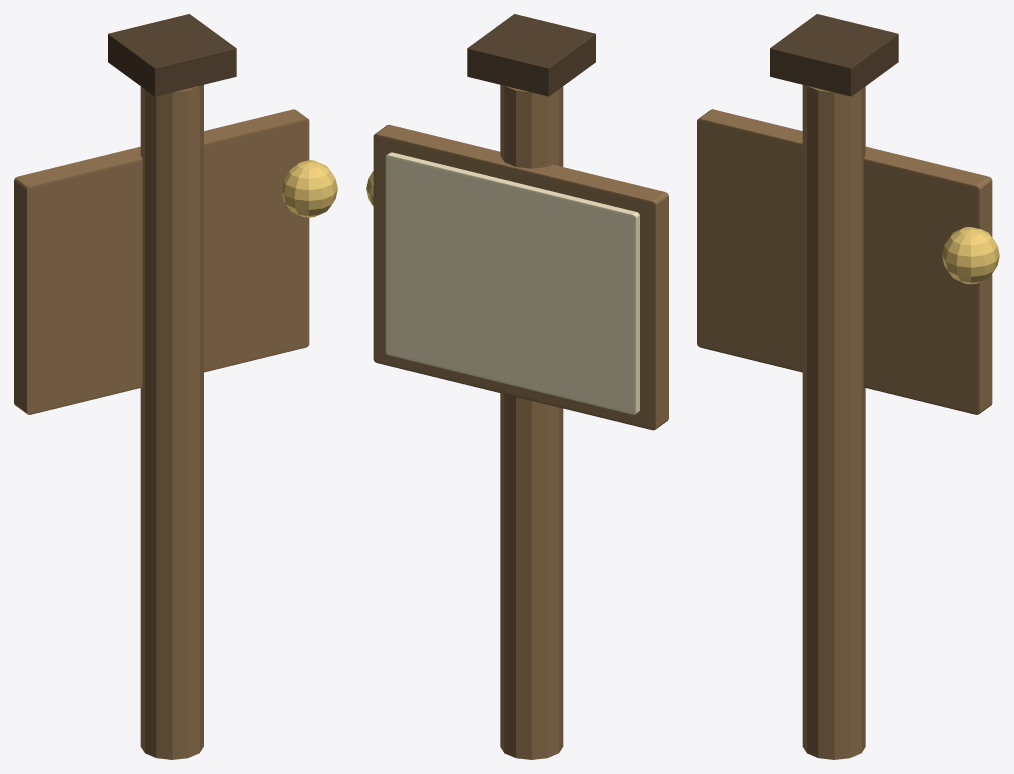
File: sign.glb
3 views of the same model, side by side, from view 1: azimuth 30°, elevation 25°; view 2: azimuth 150°, elevation 25°; view 3: azimuth 330°, elevation 25° (orthographic).
Visible parts, largest first — view 1: sign; view 2: sign; view 3: sign.
Part boxes in pixels (x1,y1,x2,y2): sign: (14, 14, 337, 759); sign: (366, 14, 668, 759); sign: (697, 14, 999, 759).
Size of the model in its own units: 0.665 by 1.48 by 0.18.
